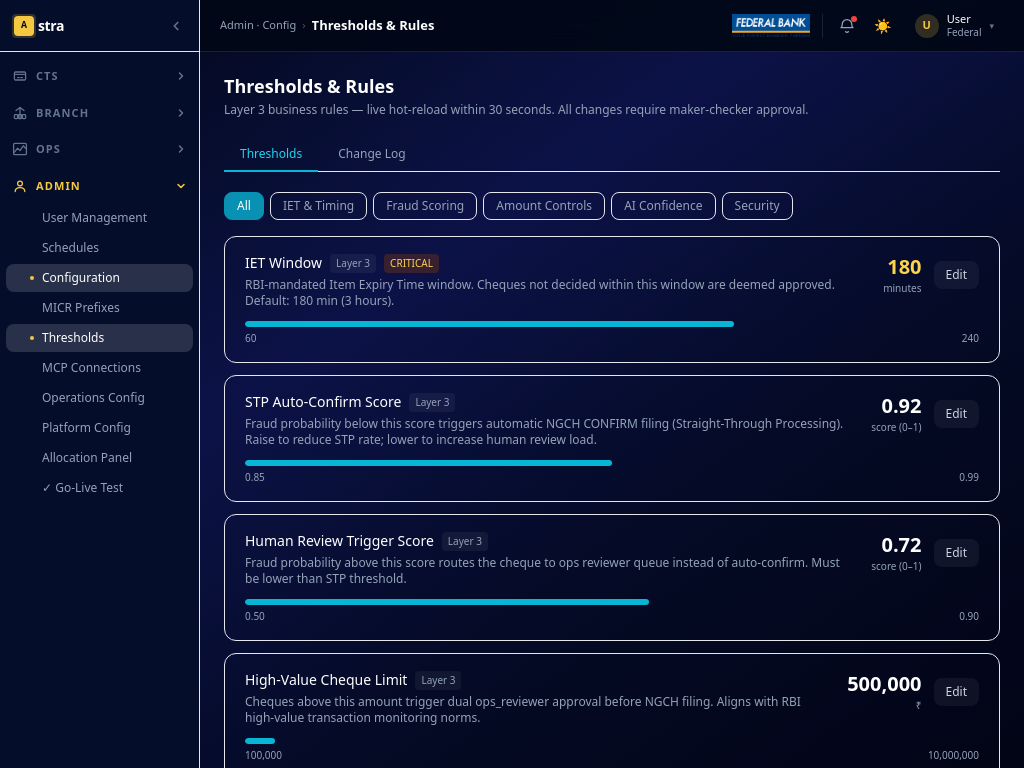
CTSThresholds › clicking Edit on editable threshold opens modal
The image size is (1024, 768).
Step 1. Click the button "Edit" next to "minutes" → (956, 274), box [934,260,979,288]
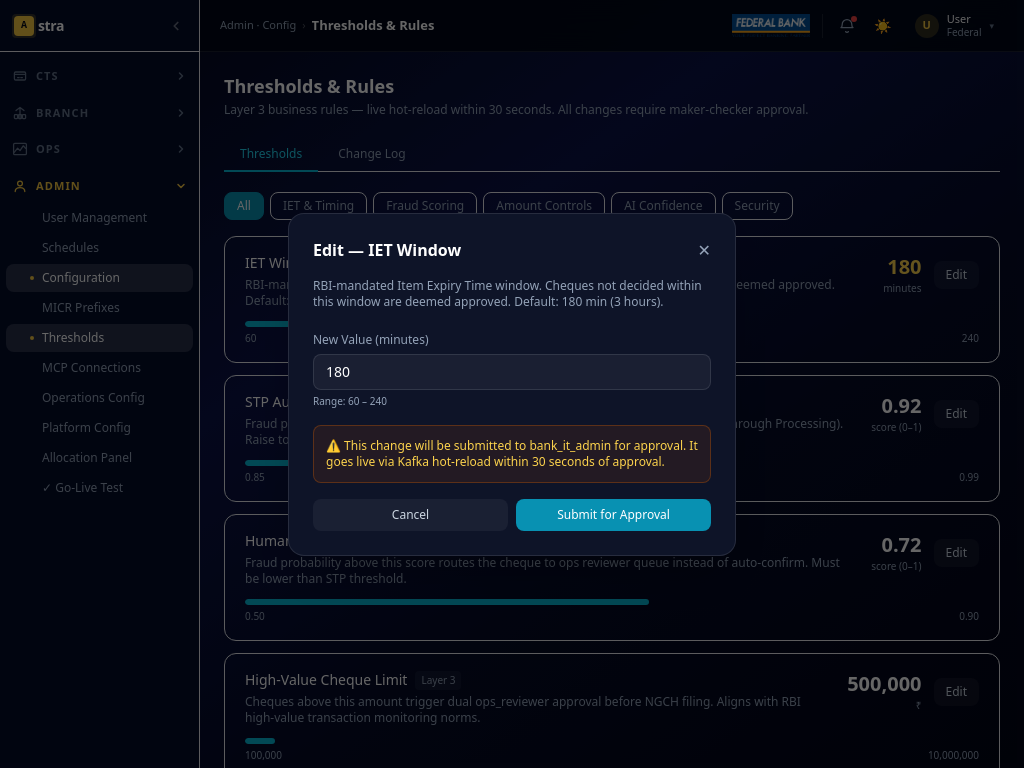
Now the button "Submit for Approval" is shown, box [516,498,711,530]
